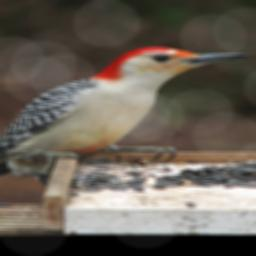Woodpecker: (0, 47, 249, 187)
